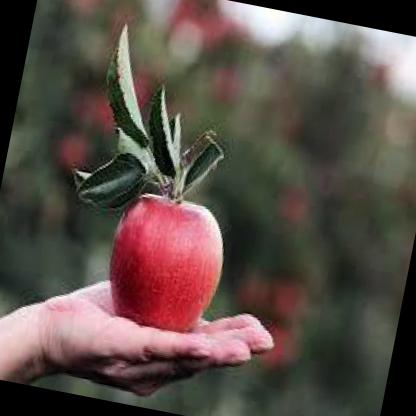apple: (100, 181, 237, 343)
